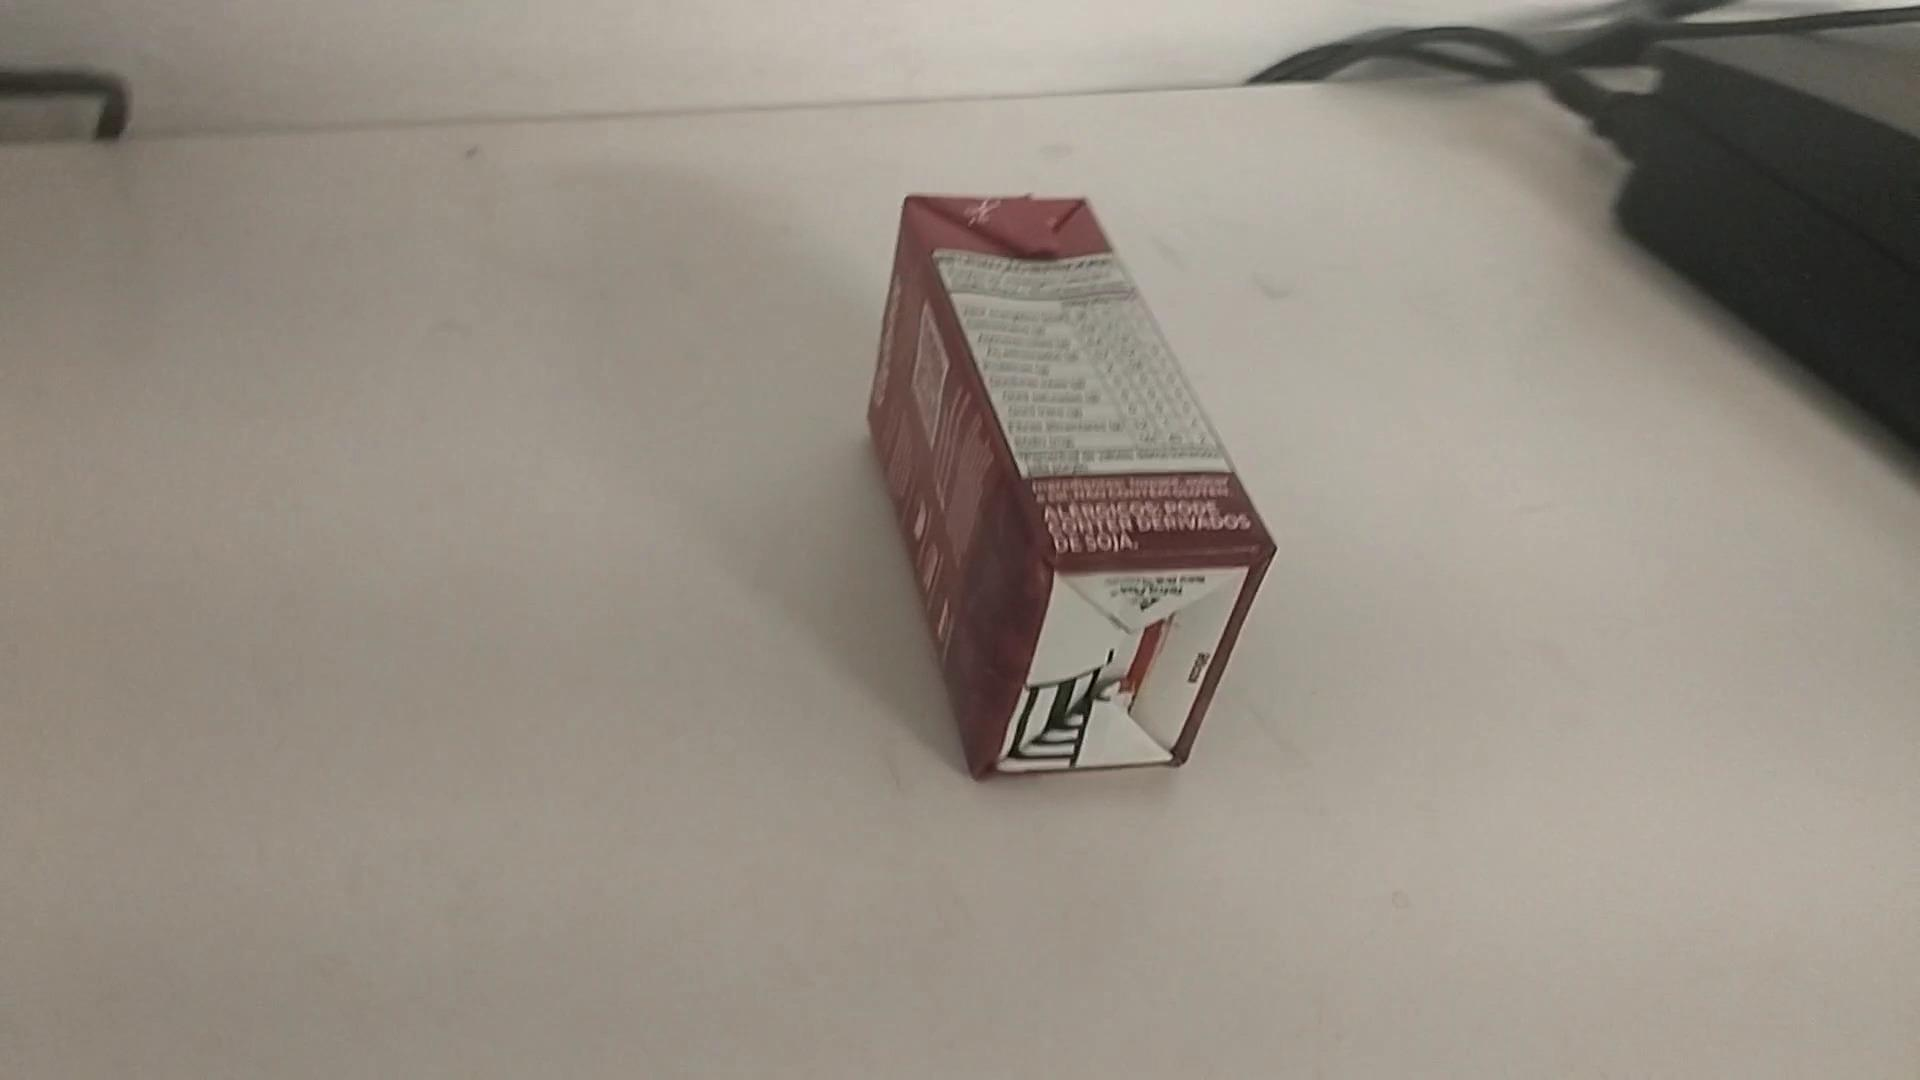tomate: (865, 190, 1278, 789)
